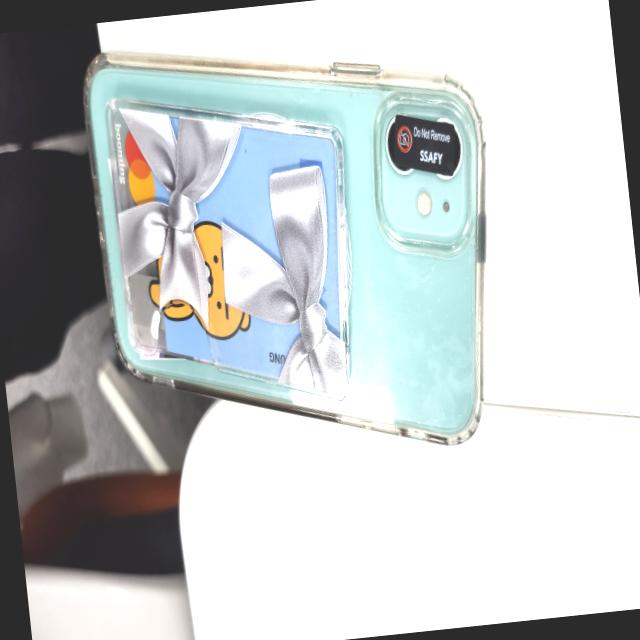phone: (73, 11, 518, 483)
sticker: (387, 106, 460, 182)
